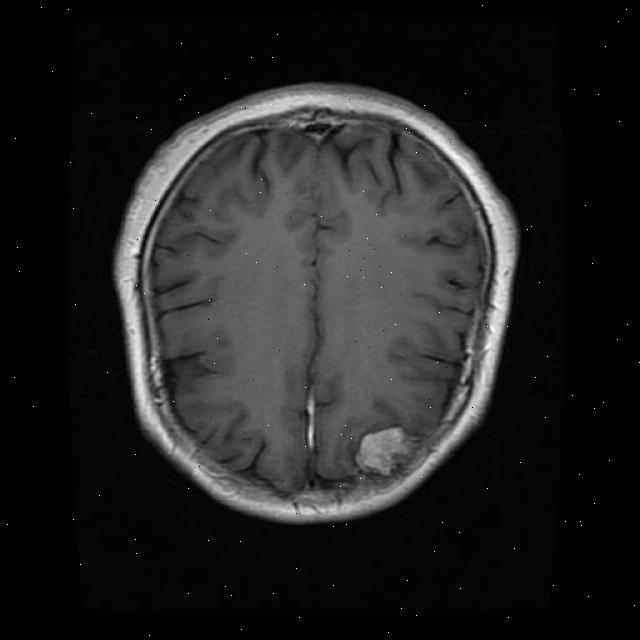Meningioma: (355, 427, 417, 476)
